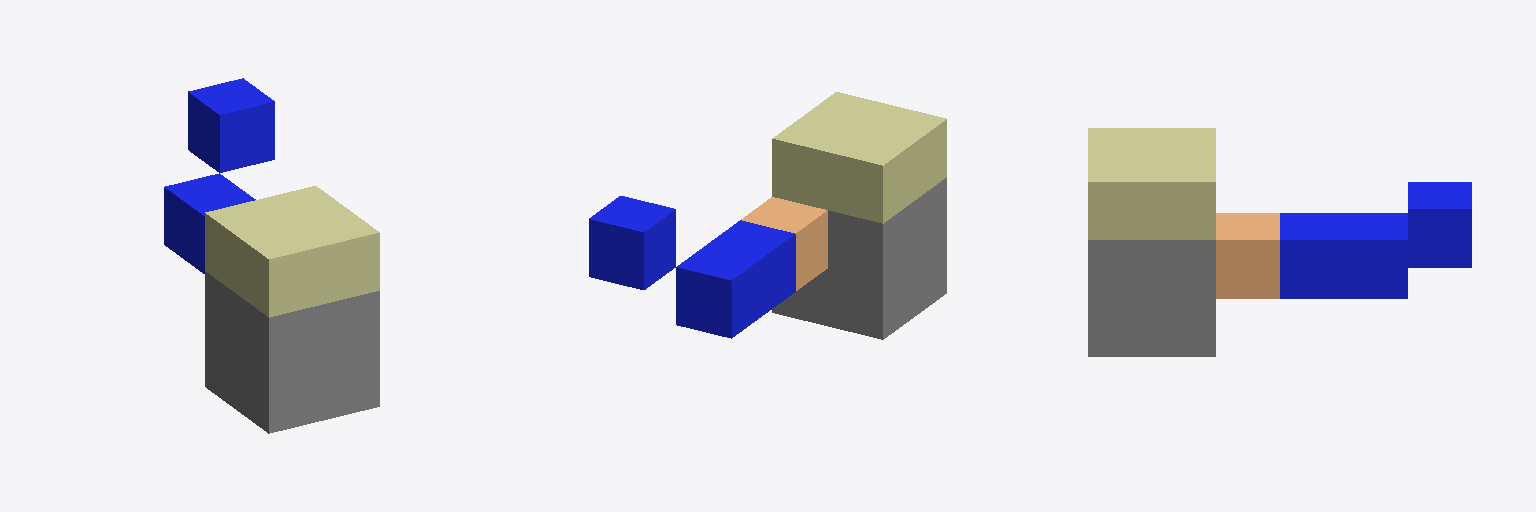
The picture shows the model from 3 angles: view 1: azimuth 30°, elevation 25°; view 2: azimuth 150°, elevation 25°; view 3: azimuth 270°, elevation 25°; orthographic projection.
Bounding box in the file's own units: 3 × 3 × 6.
1 materials, 1 textured.